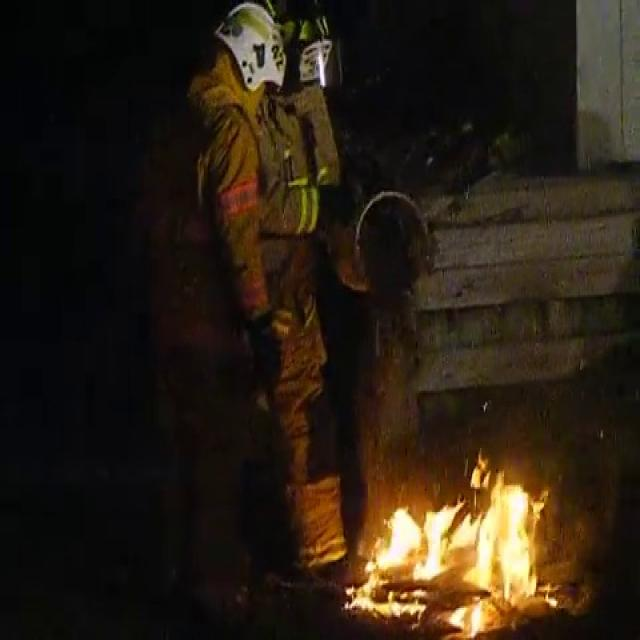Fire: (351, 450, 565, 640)
